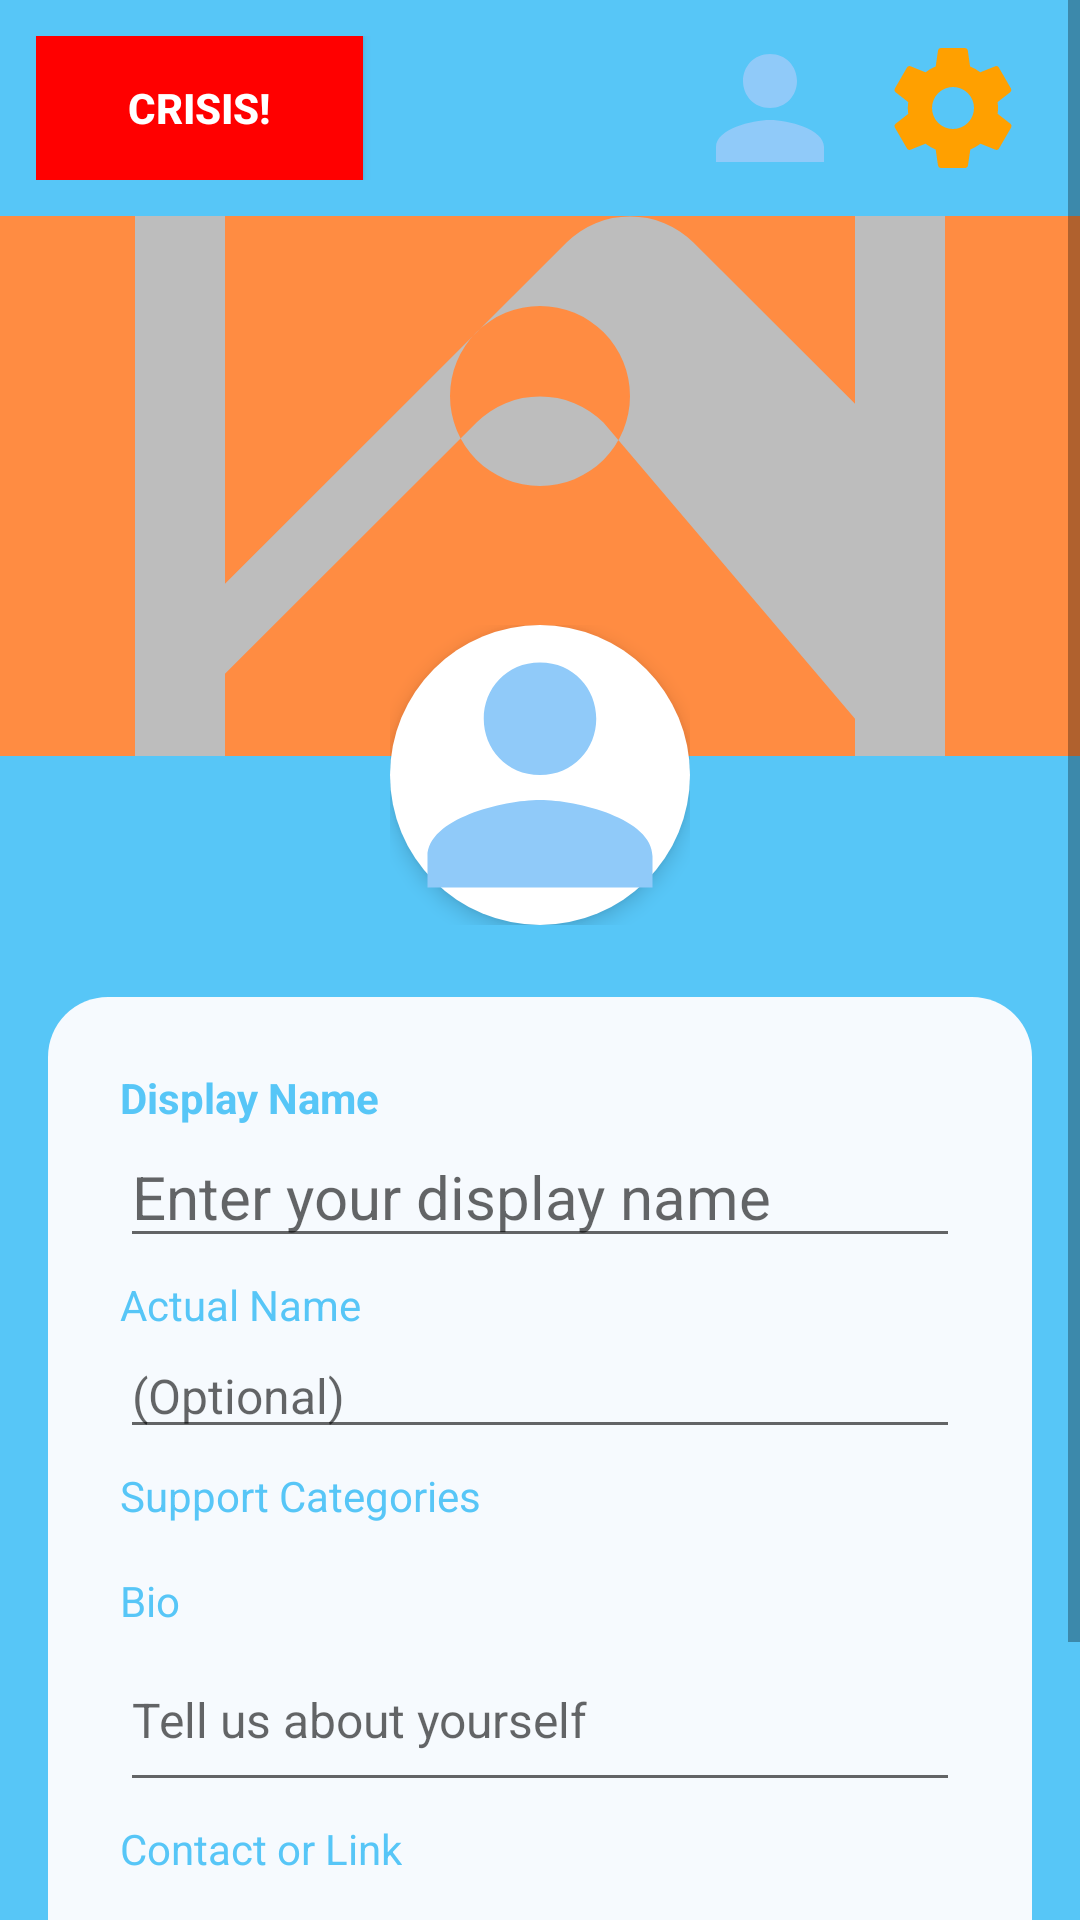

Named icons in this screenshot (1080 x 1920) and their centers, point (x, y):
Profile Photo: point (540, 775)
Settings: point (953, 108)
